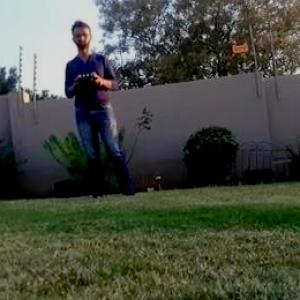follow: (62, 11, 143, 202)
